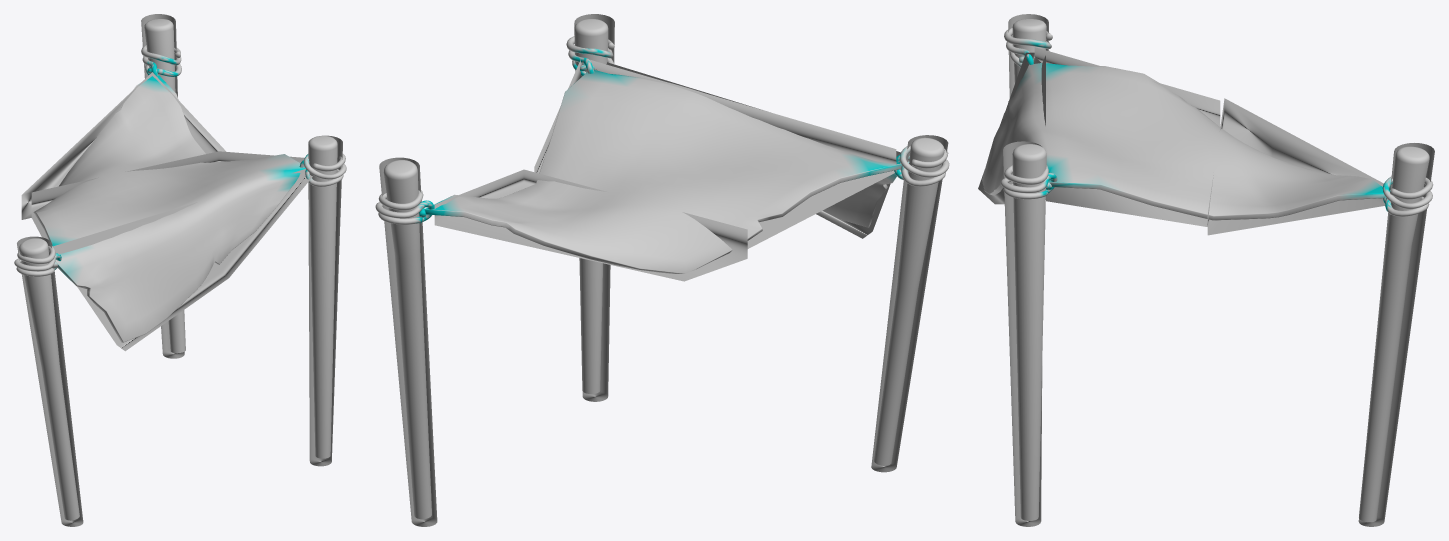
Rendered from SM_Cloth_02.gltf.
3 views of the same model, side by side, from view 1: azimuth 30°, elevation 25°; view 2: azimuth 150°, elevation 25°; view 3: azimuth 270°, elevation 25° (orthographic). The views are drawn at different scales.
Visible parts, largest first — view 1: SM_Cloth_02_LOD0, SM_Cloth_02_ConvexHulls; view 2: SM_Cloth_02_LOD0, SM_Cloth_02_ConvexHulls; view 3: SM_Cloth_02_LOD0, SM_Cloth_02_ConvexHulls.
Boxes of the visible parts, box(x1,y1,x2,y2) form: SM_Cloth_02_LOD0: box(14, 19, 346, 520); SM_Cloth_02_ConvexHulls: box(17, 14, 342, 526); SM_Cloth_02_LOD0: box(375, 19, 949, 519); SM_Cloth_02_ConvexHulls: box(379, 14, 948, 526); SM_Cloth_02_LOD0: box(982, 19, 1433, 522); SM_Cloth_02_ConvexHulls: box(978, 14, 1434, 526).
Size of what is drawn, in the model's own units: 3.9 by 3.66 by 4.05.
